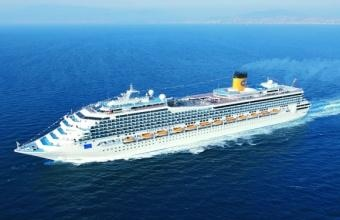youlun: (8, 70, 309, 167)
